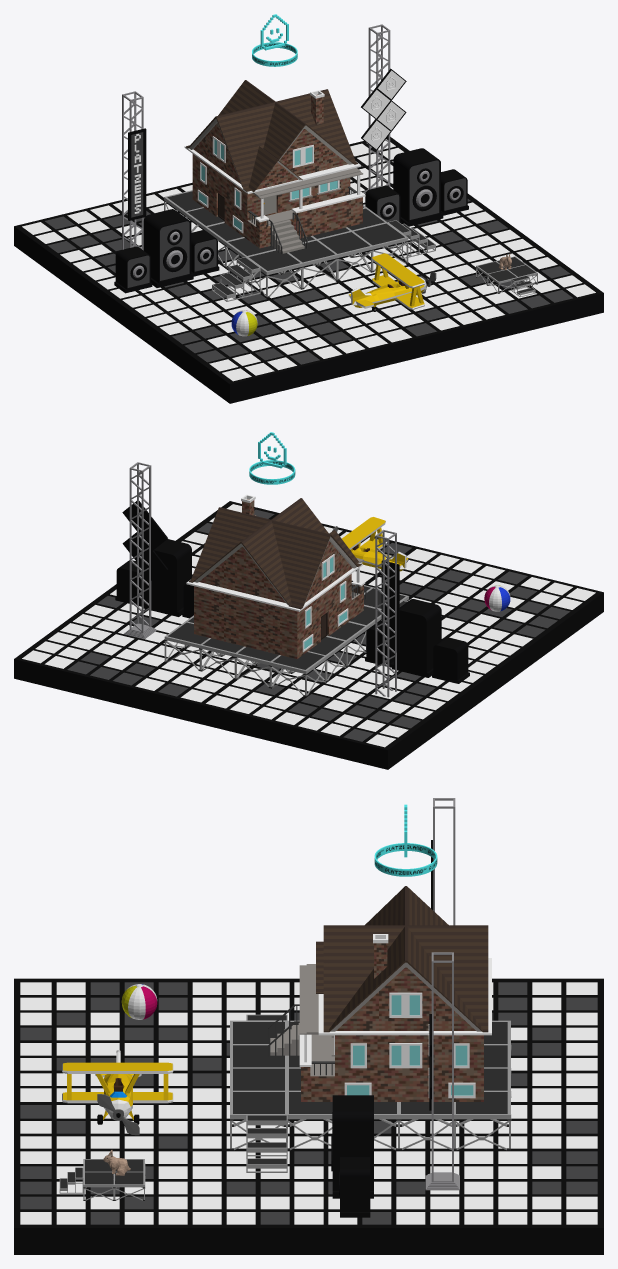
The picture shows the model from 3 angles, top to bottom: view 1: azimuth 30°, elevation 25°; view 2: azimuth 150°, elevation 25°; view 3: azimuth 270°, elevation 25°; orthographic projection. The views are drawn at different scales.
Visible parts, largest first — view 1: Cube.008, Cube.117, VEHICLES_AIRPLANE, TYPE_PREMIUM, OBJRANDOM_BEACHBALL; view 2: Cube.008, Cube.117, VEHICLES_AIRPLANE, TYPE_PREMIUM, OBJRANDOM_BEACHBALL; view 3: Cube.008, Cube.117, VEHICLES_AIRPLANE, TYPE_PREMIUM, OBJRANDOM_BEACHBALL.
Boxes of the visible parts, x1,y1,x2,y2 form: Cube.008: [14, 24, 603, 403]; Cube.117: [184, 80, 365, 254]; VEHICLES_AIRPLANE: [348, 253, 436, 311]; TYPE_PREMIUM: [252, 14, 297, 66]; OBJRANDOM_BEACHBALL: [231, 310, 257, 336]; Cube.008: [14, 462, 603, 769]; Cube.117: [186, 494, 366, 658]; VEHICLES_AIRPLANE: [332, 517, 408, 575]; TYPE_PREMIUM: [249, 432, 295, 484]; OBJRANDOM_BEACHBALL: [484, 585, 510, 611]; Cube.008: [14, 798, 603, 1254]; Cube.117: [268, 886, 491, 1101]; VEHICLES_AIRPLANE: [62, 1050, 173, 1135]; TYPE_PREMIUM: [374, 804, 437, 876]; OBJRANDOM_BEACHBALL: [121, 984, 157, 1019].
Bounding box in the file's own units: 4000 × 2462 × 4000.
45 materials, 4 textured.
